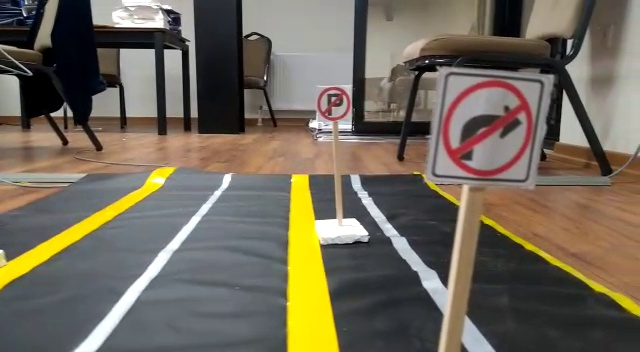park_yapilmaz: (318, 84, 351, 121)
saga_donulmez: (442, 72, 531, 179)
